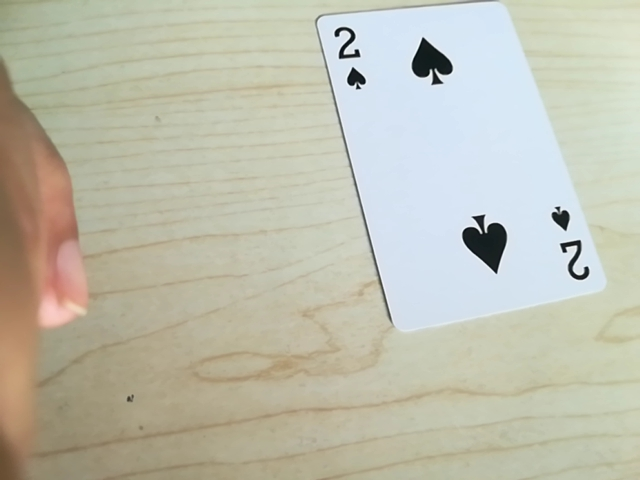ht 2: (324, 20, 373, 99), (548, 199, 587, 287)
